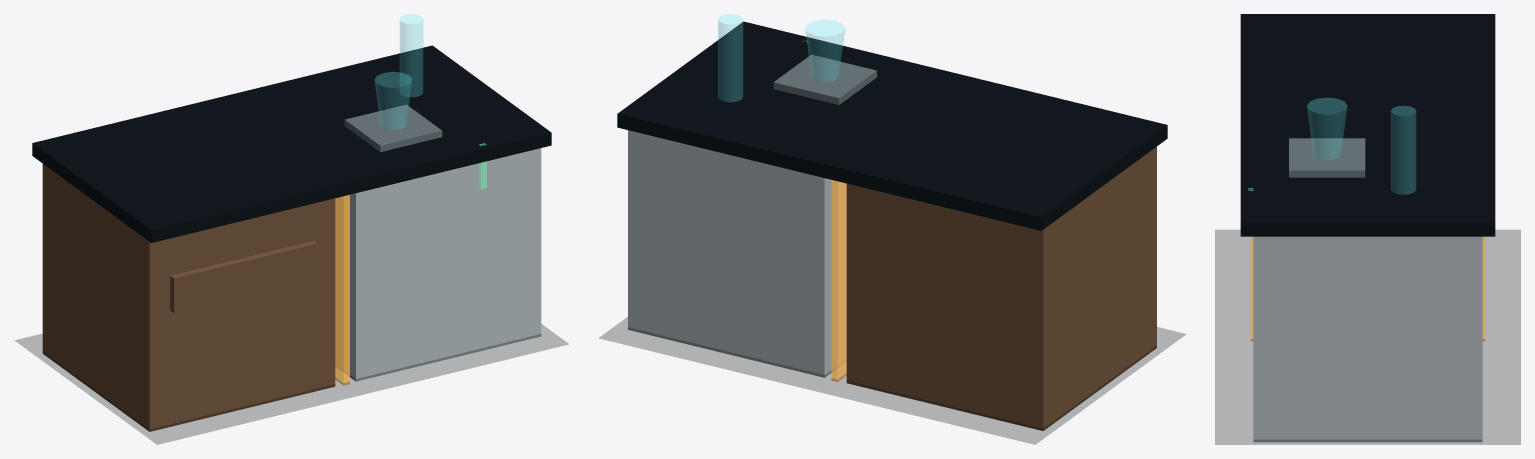
Rendered from hp_room_cyber_kitchen_lab_island.glb.
3 renders of one model, left to right at view 1: azimuth 30°, elevation 25°; view 2: azimuth 150°, elevation 25°; view 3: azimuth 270°, elevation 25°, orthographic. The views are drawn at different scales.
Visible parts, largest first — view 1: counter_top, island_home_half, island_lab_half, contact_shadow, home_drawer, burner_plate, seam_amber, lab_flask_tall, lab_flask; view 2: island_home_half, counter_top, island_lab_half, contact_shadow, burner_plate, seam_amber, lab_flask_tall, lab_flask; view 3: counter_top, island_lab_half, contact_shadow, burner_plate, lab_flask_tall, lab_flask, seam_amber.
Part boxes in pixels (left/top/right/bottom): counter_top: left=32, top=45, right=551, bottom=242; island_home_half: left=42, top=164, right=335, bottom=431; island_lab_half: left=336, top=148, right=541, bottom=381; contact_shadow: left=15, top=324, right=568, bottom=444; home_drawer: left=170, top=240, right=318, bottom=312; burner_plate: left=344, top=104, right=442, bottom=151; seam_amber: left=335, top=194, right=349, bottom=385; lab_flask_tall: left=400, top=14, right=422, bottom=96; lab_flask: left=375, top=72, right=411, bottom=130; island_home_half: left=846, top=146, right=1156, bottom=430; counter_top: left=617, top=21, right=1167, bottom=230; island_lab_half: left=628, top=130, right=845, bottom=377; contact_shadow: left=599, top=317, right=1185, bottom=444; burner_plate: left=773, top=54, right=876, bottom=104; seam_amber: left=831, top=180, right=846, bottom=381; lab_flask_tall: left=718, top=14, right=742, bottom=101; lab_flask: left=805, top=20, right=844, bottom=81; counter_top: left=1240, top=14, right=1495, bottom=236; island_lab_half: left=1253, top=236, right=1482, bottom=442; contact_shadow: left=1215, top=230, right=1520, bottom=444; burner_plate: left=1289, top=138, right=1365, bottom=177; lab_flask_tall: left=1391, top=106, right=1415, bottom=194; lab_flask: left=1307, top=98, right=1347, bottom=159; seam_amber: left=1250, top=236, right=1485, bottom=341.
Bounding box in the file's own units: 2 × 1.3 × 1.2.
